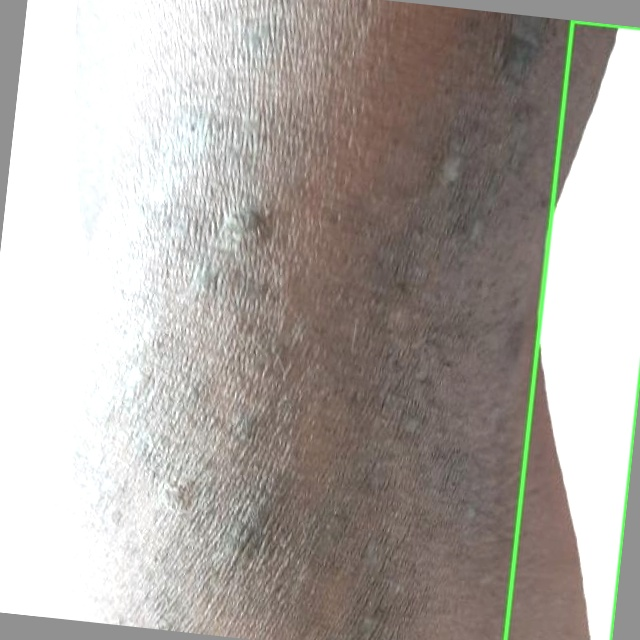Contact Dermatitis: (505, 21, 639, 639)
